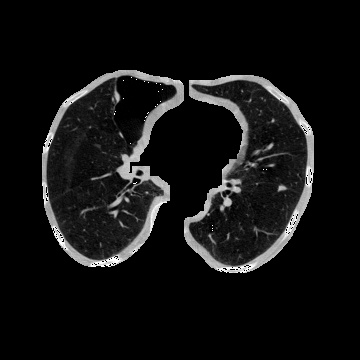PN: (277, 184, 285, 192)
